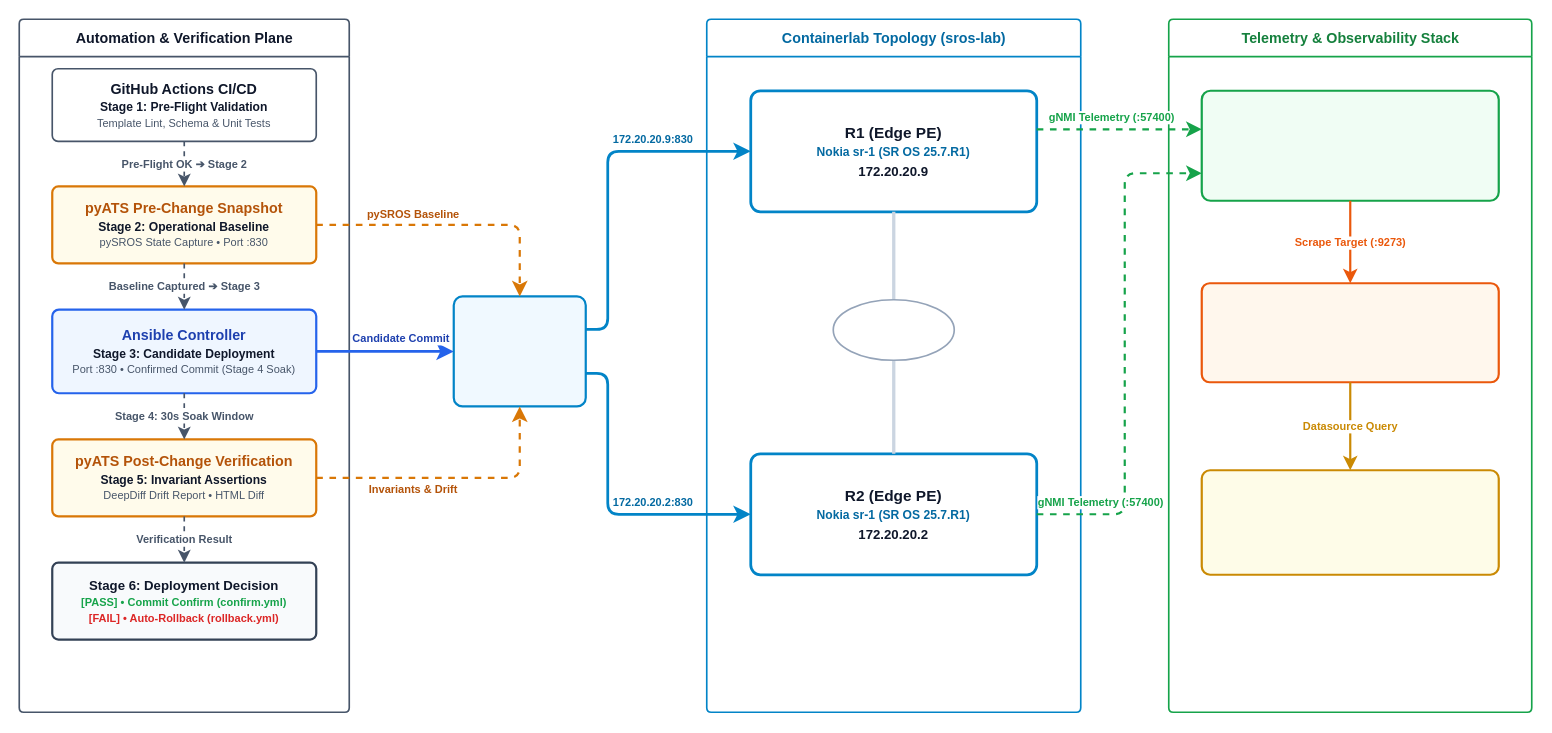
Image size: 1552x733. Some labels were removed from this diagram. The centre of each missing label's shape, as x and y in pixels:
"Grafana Dashboards Real-Time Telemetry Visualization 172.20.20.103:3000" goes at point 1349,522.
"OOB Mgmt Network 172.20.20.0/24 NETCONF • Port :830" goes at point 519,351.
"Port 1/1/c2/1 100GE Data Link" goes at point 893,329.
"Prometheus TSDB Time Series Metrics Store 172.20.20.102:9090" goes at point 1349,332.
"Telegraf (gNMI Collector) Telemetry Ingestion (:57400) 172.20.20.101" goes at point 1349,145.
